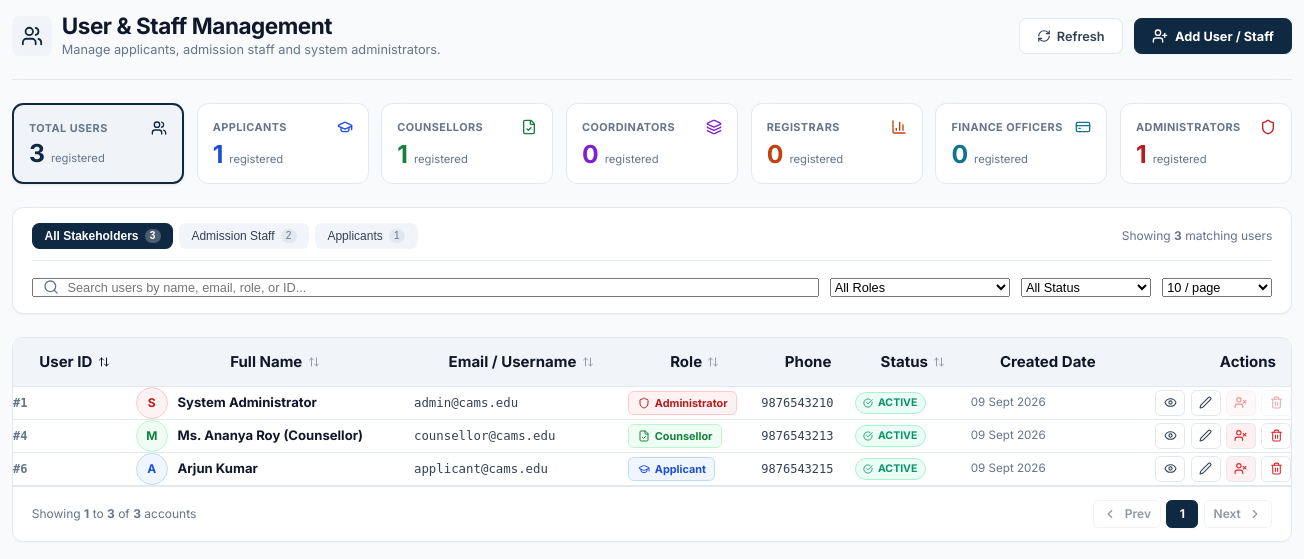
Test: UserManagementPage Component › filters users correctly when searching by name
Expected: the text "Arjun Kumar" is shown, left=178, top=459, right=258, bottom=479
Type "Arjun" into the field with placeholder "Search users by name, email, role, or ID..." at [425, 288], box left=32, top=278, right=819, bottom=297
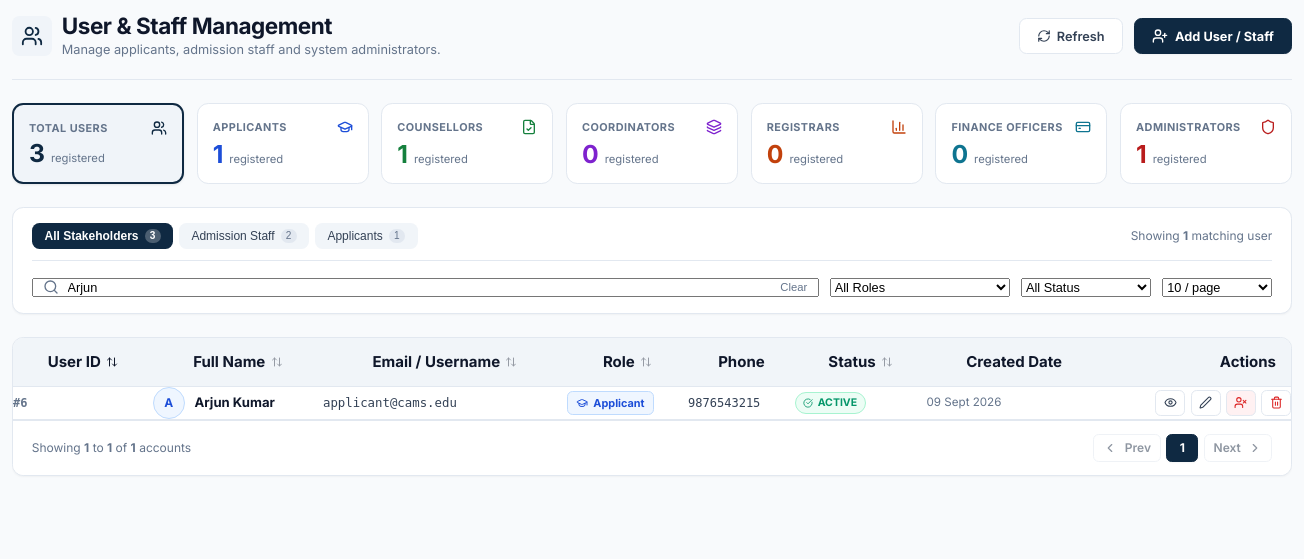
Expected: the text "Arjun Kumar" is shown, left=194, top=393, right=275, bottom=413
Result: the text "Ms. Ananya Roy (Counsellor)" is gone
